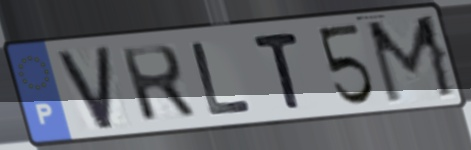5: (313, 20, 377, 108)
L: (187, 38, 257, 118)
M: (362, 11, 461, 107)
R: (117, 42, 200, 124)
T: (249, 29, 305, 112)
V: (53, 43, 117, 133)
